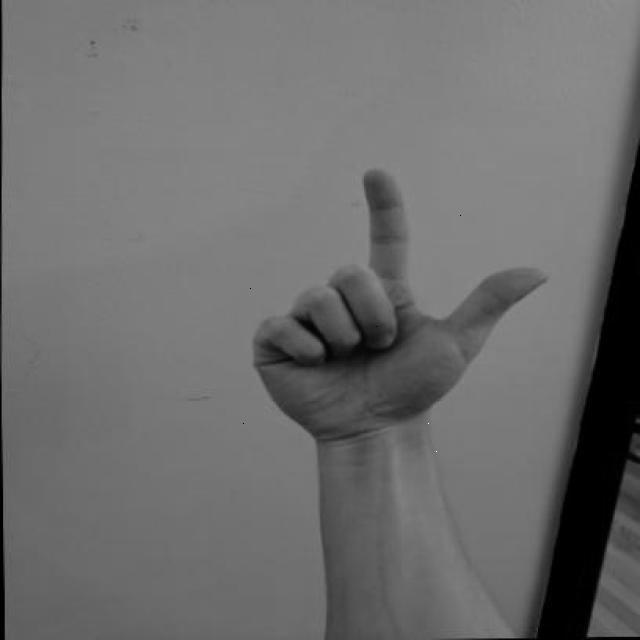L: (240, 160, 558, 452)
